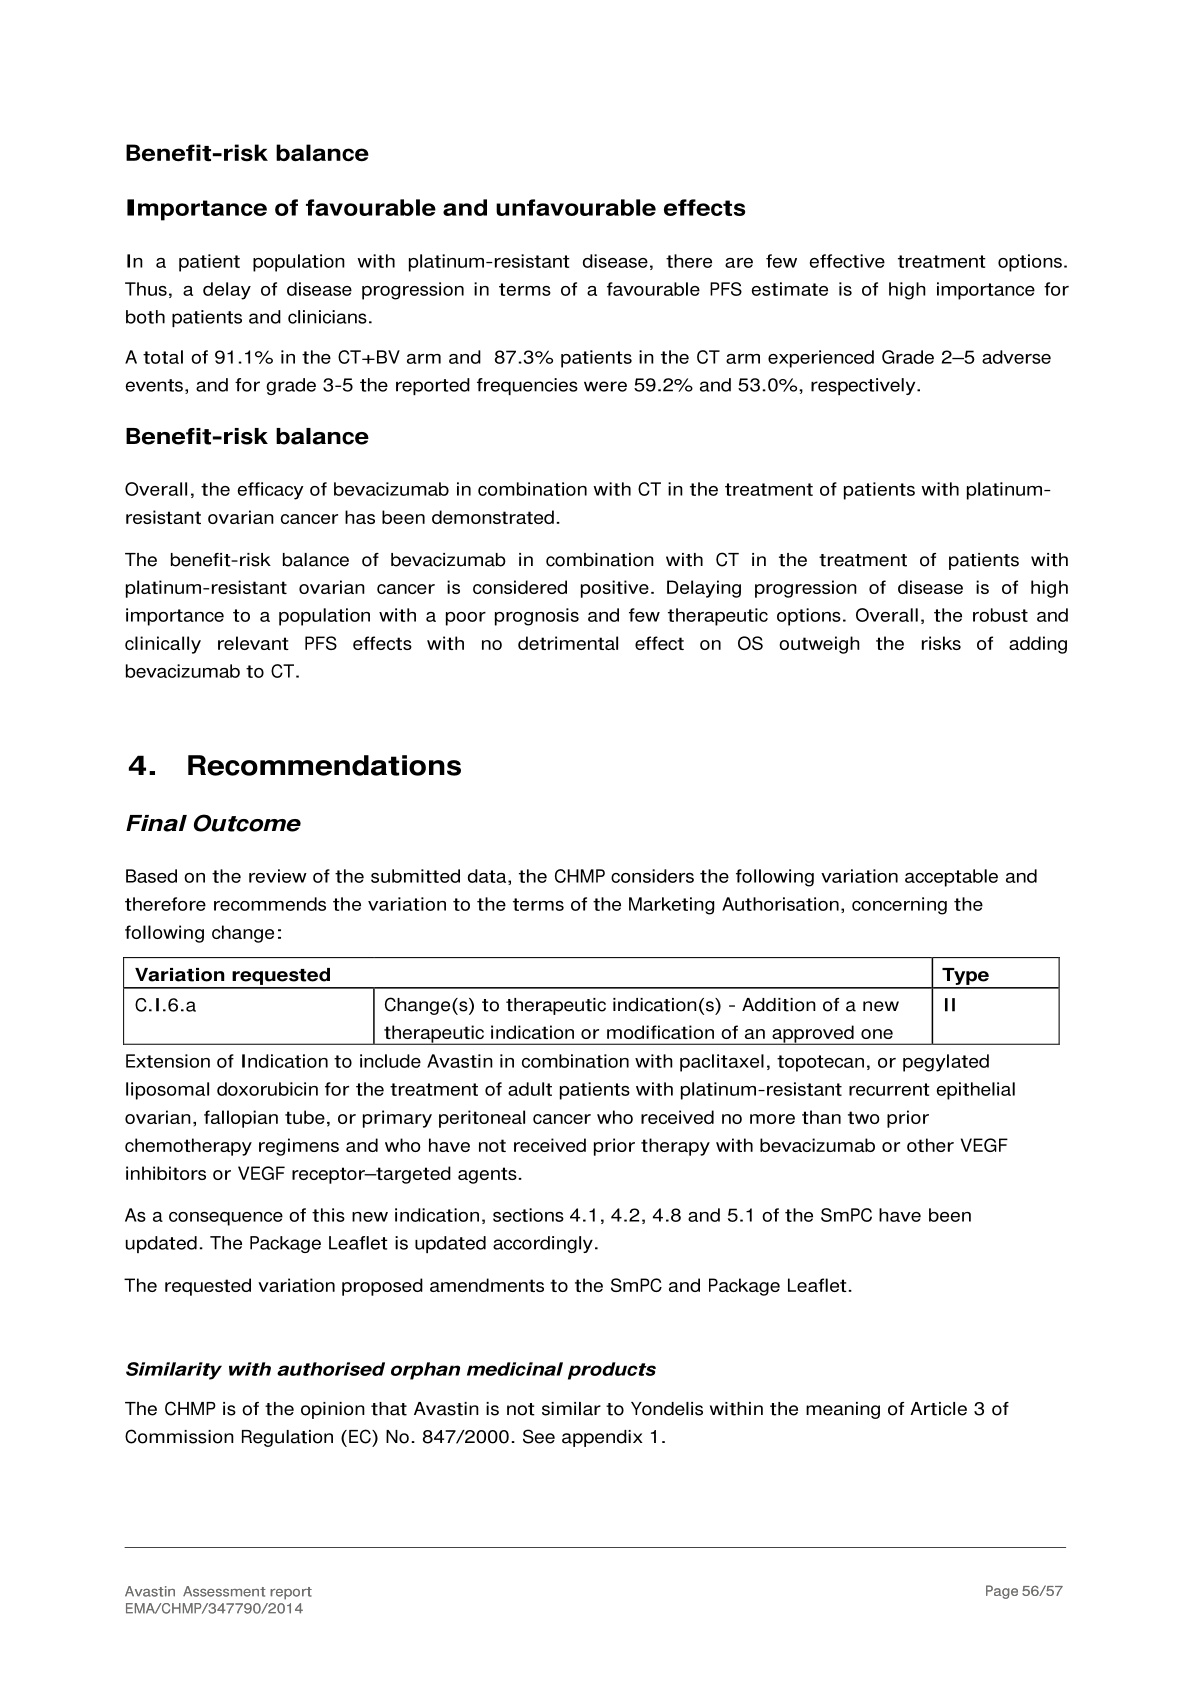merged_cells: (121, 957, 1063, 1046)
